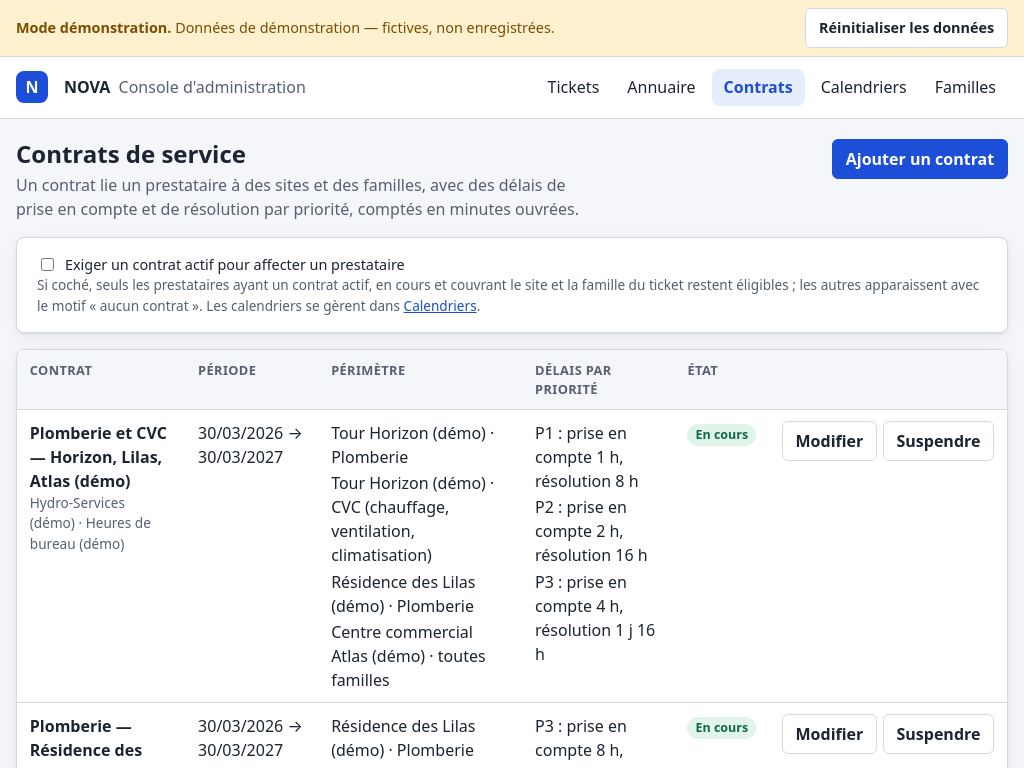
Test: contrats de service › suspend puis réactive un contrat
Click the button "Suspendre" in the row of "Plomberie — Résidence des Lilas (démo)". click: click(938, 734)
box: 883,714 -> 994,754
(page scrolled)
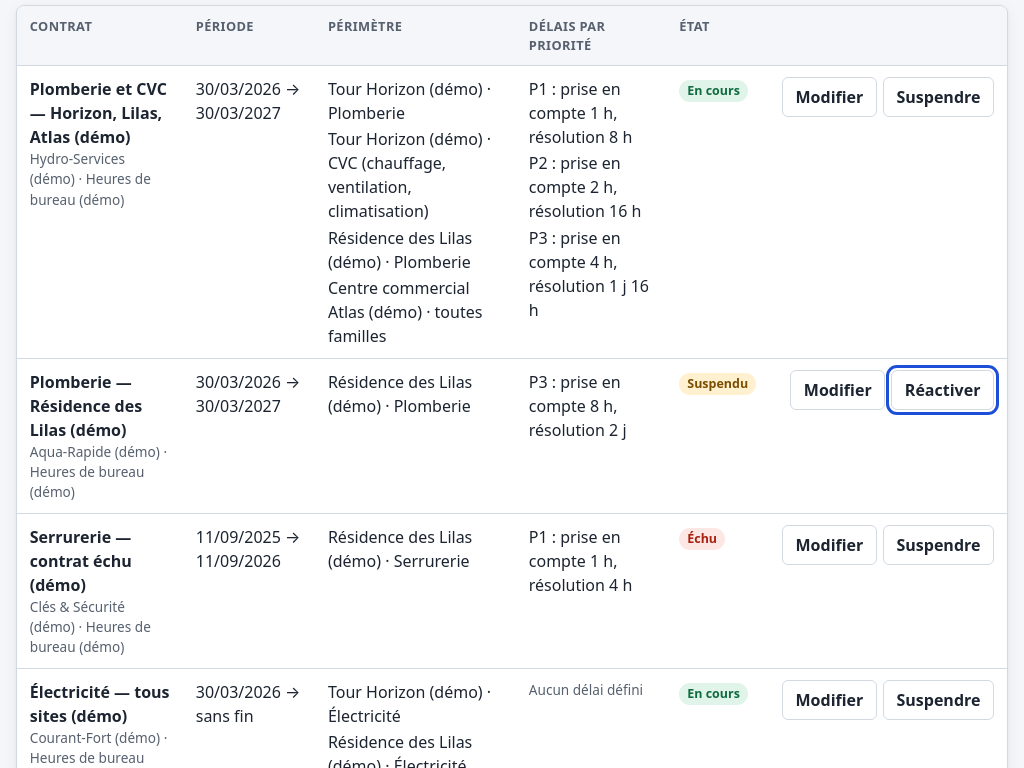
Now the text "Suspendu" is shown, box 679,373 -> 756,395
